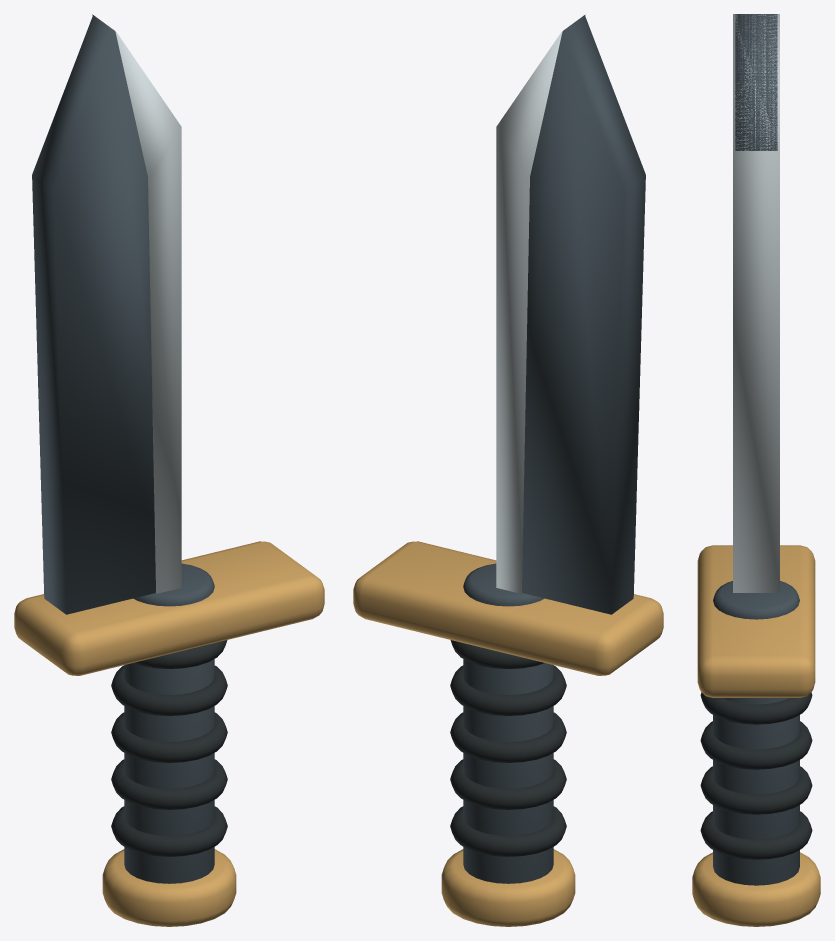
File: sword.t1.glb
3 views of the same model, side by side, from view 1: azimuth 30°, elevation 25°; view 2: azimuth 150°, elevation 25°; view 3: azimuth 270°, elevation 25° (orthographic). The views are drawn at different scales.
Visible parts, largest first — view 1: weapon_right__forged_bluelead_steel__protected, weapon_right__worn_warm_brass__protected, weapon_right__honed_steel_edge__protected, weapon_right__charcoal_rubber__protected; view 2: weapon_right__forged_bluelead_steel__protected, weapon_right__worn_warm_brass__protected, weapon_right__honed_steel_edge__protected, weapon_right__charcoal_rubber__protected; view 3: weapon_right__honed_steel_edge__protected, weapon_right__worn_warm_brass__protected, weapon_right__forged_bluelead_steel__protected, weapon_right__charcoal_rubber__protected.
Part boxes in pixels (x1,y1,x2,y2): weapon_right__forged_bluelead_steel__protected: [32, 15, 214, 883]; weapon_right__worn_warm_brass__protected: [14, 541, 324, 926]; weapon_right__honed_steel_edge__protected: [92, 14, 181, 593]; weapon_right__charcoal_rubber__protected: [111, 640, 227, 856]; weapon_right__forged_bluelead_steel__protected: [463, 15, 645, 883]; weapon_right__worn_warm_brass__protected: [353, 541, 663, 926]; weapon_right__honed_steel_edge__protected: [496, 14, 585, 593]; weapon_right__charcoal_rubber__protected: [450, 640, 566, 856]; weapon_right__honed_steel_edge__protected: [733, 14, 779, 592]; weapon_right__worn_warm_brass__protected: [692, 545, 820, 926]; weapon_right__forged_bluelead_steel__protected: [713, 14, 799, 885]; weapon_right__charcoal_rubber__protected: [700, 692, 812, 859].
Bounding box in the file's own units: 0.2528 × 0.8295 × 0.1122.
